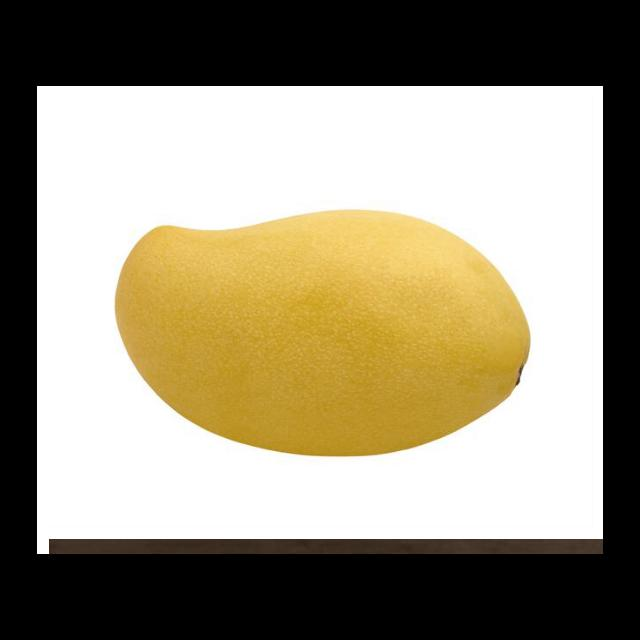mango: (111, 209, 531, 458)
